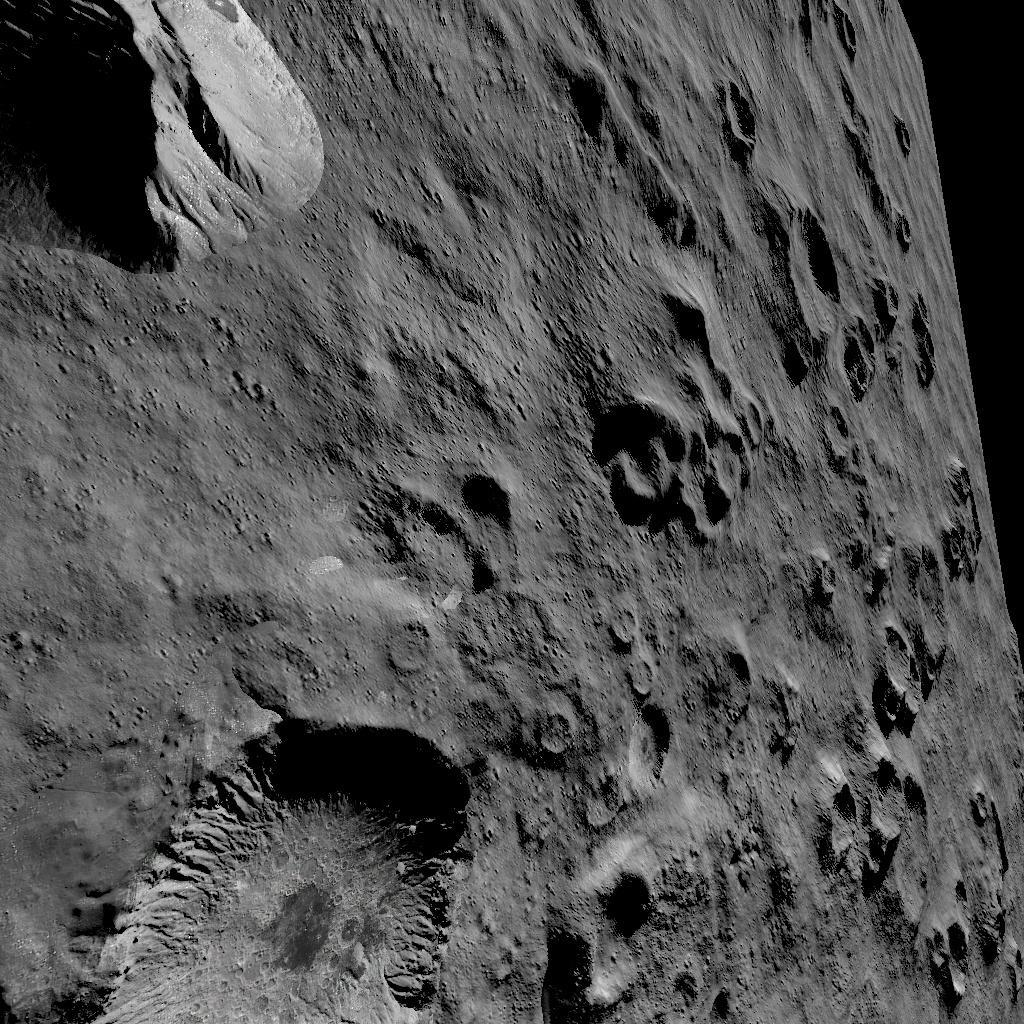Boulders: (0, 0, 344, 290)
Crater: (0, 718, 514, 1024), (827, 748, 1024, 1008), (811, 508, 1024, 737), (595, 392, 797, 544), (365, 472, 536, 600), (537, 864, 655, 1016), (859, 270, 959, 410), (771, 204, 848, 380), (613, 606, 674, 708), (723, 70, 775, 162), (823, 0, 890, 65), (393, 614, 448, 680), (543, 710, 589, 766), (895, 202, 935, 256), (891, 108, 932, 158)
Plan surface: (3, 298, 354, 706), (365, 0, 584, 455)
